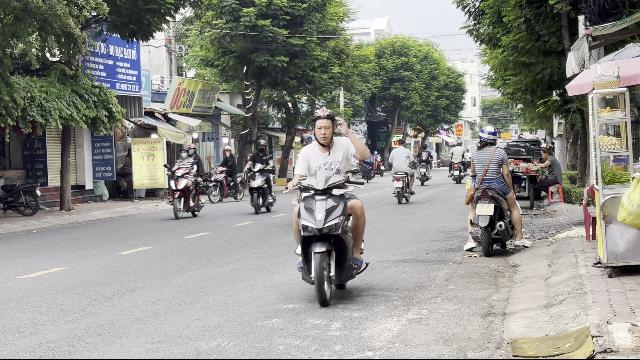helmet: (310, 109, 338, 145), (478, 126, 498, 146), (178, 144, 188, 156), (188, 144, 196, 154)
licenseplate: (476, 205, 494, 216)
motorcyclist: (285, 108, 373, 303), (461, 124, 525, 256), (166, 144, 206, 220)
